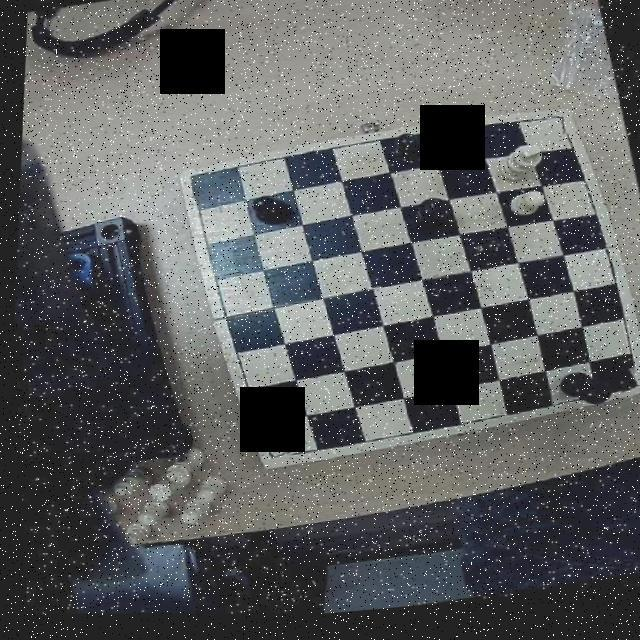chess-table-corners: (248, 432, 292, 474), (178, 167, 216, 206), (605, 374, 640, 413), (538, 114, 575, 150)
